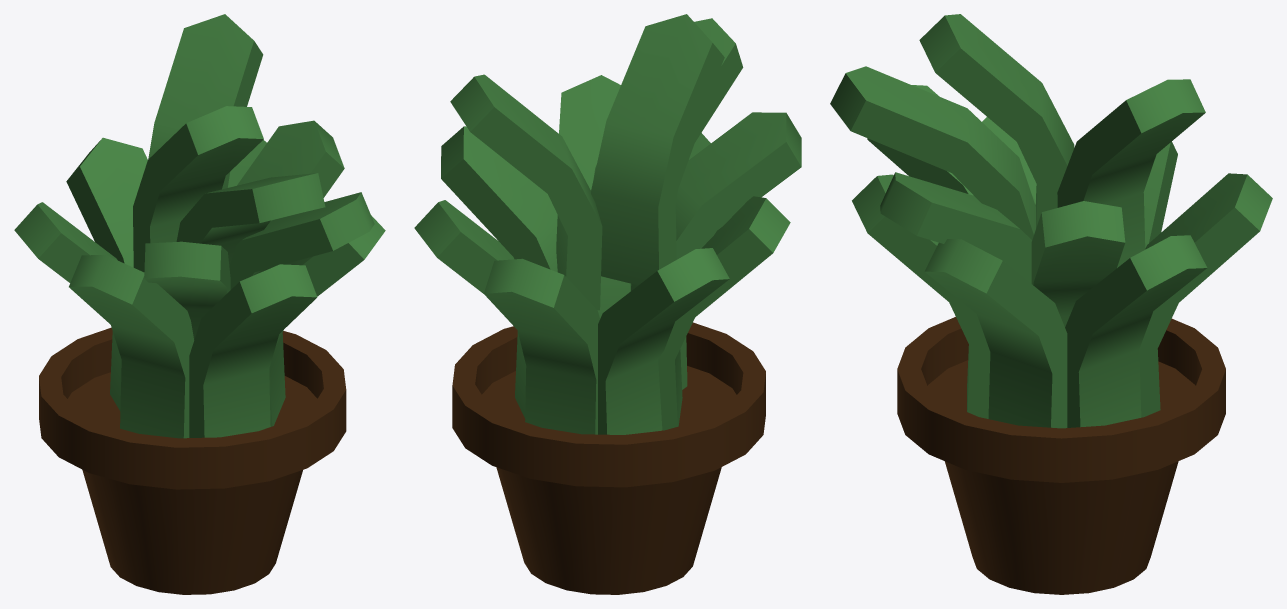
File: plant.obj
The picture shows the model from 3 angles, left to right: view 1: azimuth 30°, elevation 25°; view 2: azimuth 150°, elevation 25°; view 3: azimuth 270°, elevation 25°; orthographic projection. The views are drawn at different scales.
Visible parts, largest first — view 1: pot, leaves leaf12, leaf10 leaves, leaves leaf2, leaves leaf1, leaves leaf3, leaves leaf5, leaves leaf11, leaves leaf6, leaves leaf4, leaves leaf9, leaves leaf8 (+1 smaller); view 2: pot, leaves leaf2, leaves leaf11, leaves leaf9, leaves leaf1, leaves leaf6, leaves leaf4, leaf10 leaves, leaves leaf7, leaves leaf5, leaves leaf3, leaves leaf12; view 3: pot, leaves leaf8, leaves leaf7, leaves leaf3, leaves leaf2, leaves leaf1, leaves leaf11, leaves leaf4, leaves leaf5, leaves leaf12, leaves leaf9, leaves leaf6 (+1 smaller).
Part boxes in pixels (x1,y1,x2,y2): pot: (39,327,346,594); leaves leaf12: (189,264,317,437); leaf10 leaves: (69,255,194,438); leaves leaf2: (133,106,263,272); leaves leaf1: (148,14,263,189); leaves leaf3: (176,173,325,265); leaves leaf5: (229,192,374,289); leaves leaf11: (66,137,147,267); leaves leaf6: (144,241,230,339); leaves leaf4: (237,120,344,221); leaves leaf9: (14,202,121,410); leaves leaf8: (269,215,385,426); pot: (452,322,765,594); leaves leaf2: (591,14,724,285); leaves leaf11: (484,258,599,434); leaves leaf9: (598,248,729,434); leaves leaf1: (450,74,602,310); leaves leaf6: (631,112,801,290); leaves leaf4: (441,126,557,272); leaf10 leaves: (658,196,790,430); leaves leaf7: (414,200,526,418); leaves leaf5: (559,75,631,318); leaves leaf3: (593,18,743,185); leaves leaf12: (680,133,710,389); pot: (897,317,1225,594); leaves leaf8: (924,239,1067,428); leaves leaf7: (1065,235,1207,427); leaves leaf3: (830,66,1035,239); leaves leaf2: (919,14,1074,228); leaves leaf1: (1057,79,1205,267); leaves leaf11: (1139,173,1272,417); leaves leaf4: (1031,201,1125,326); leaves leaf5: (880,172,1031,283); leaves leaf12: (852,174,990,418); leaves leaf9: (1143,141,1177,247); leaves leaf6: (867,85,1035,204).
Size of the model in its own units: 0.3995 by 0.6461 by 0.4884.
